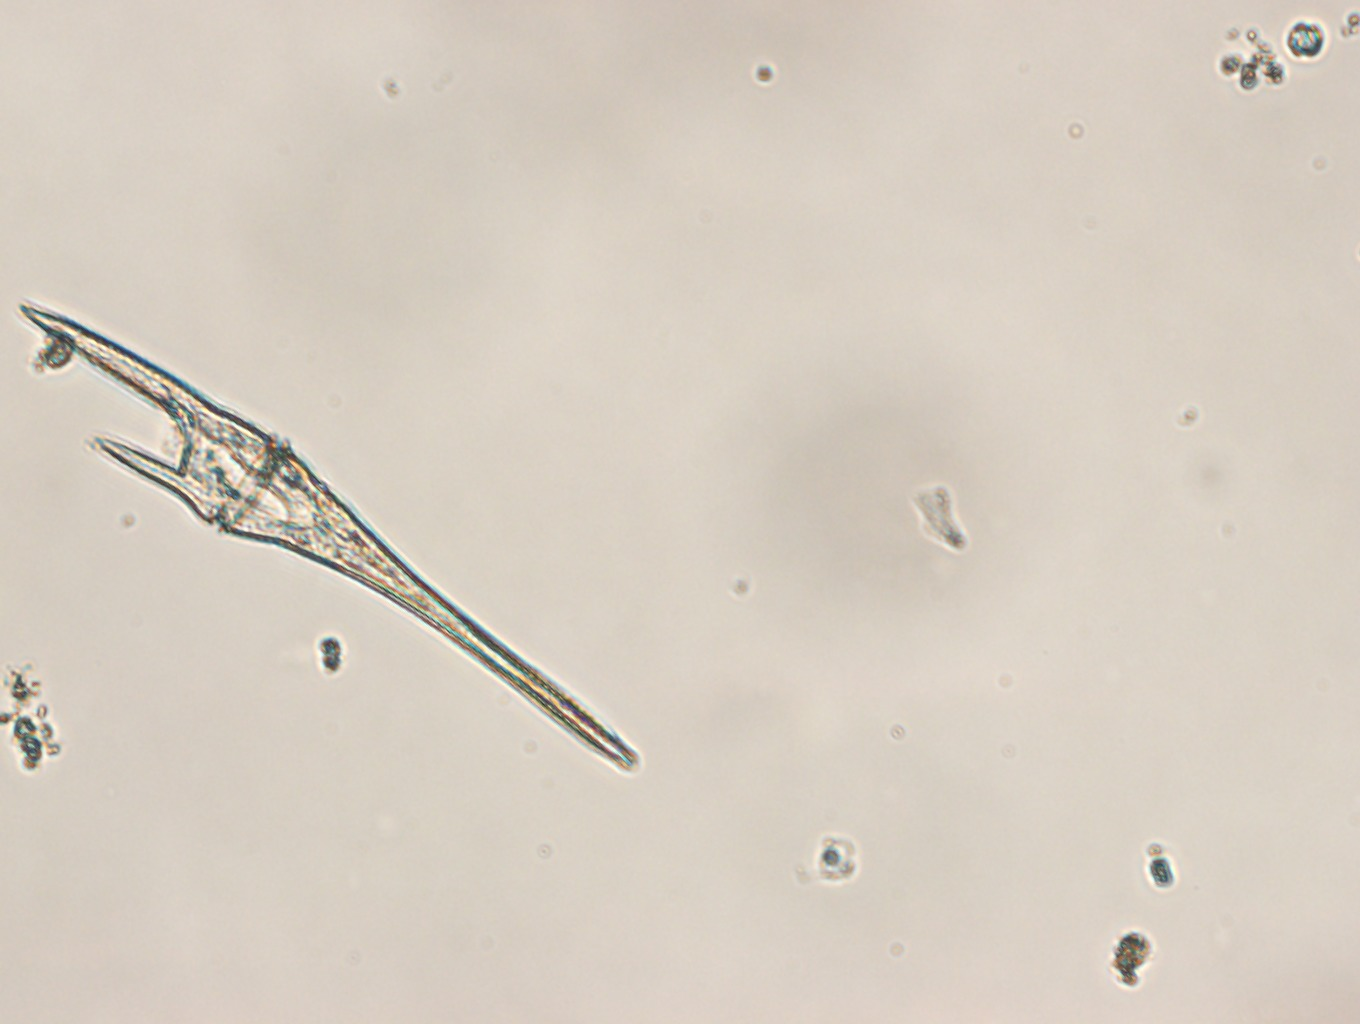ceratium furca: (12, 298, 644, 778)
